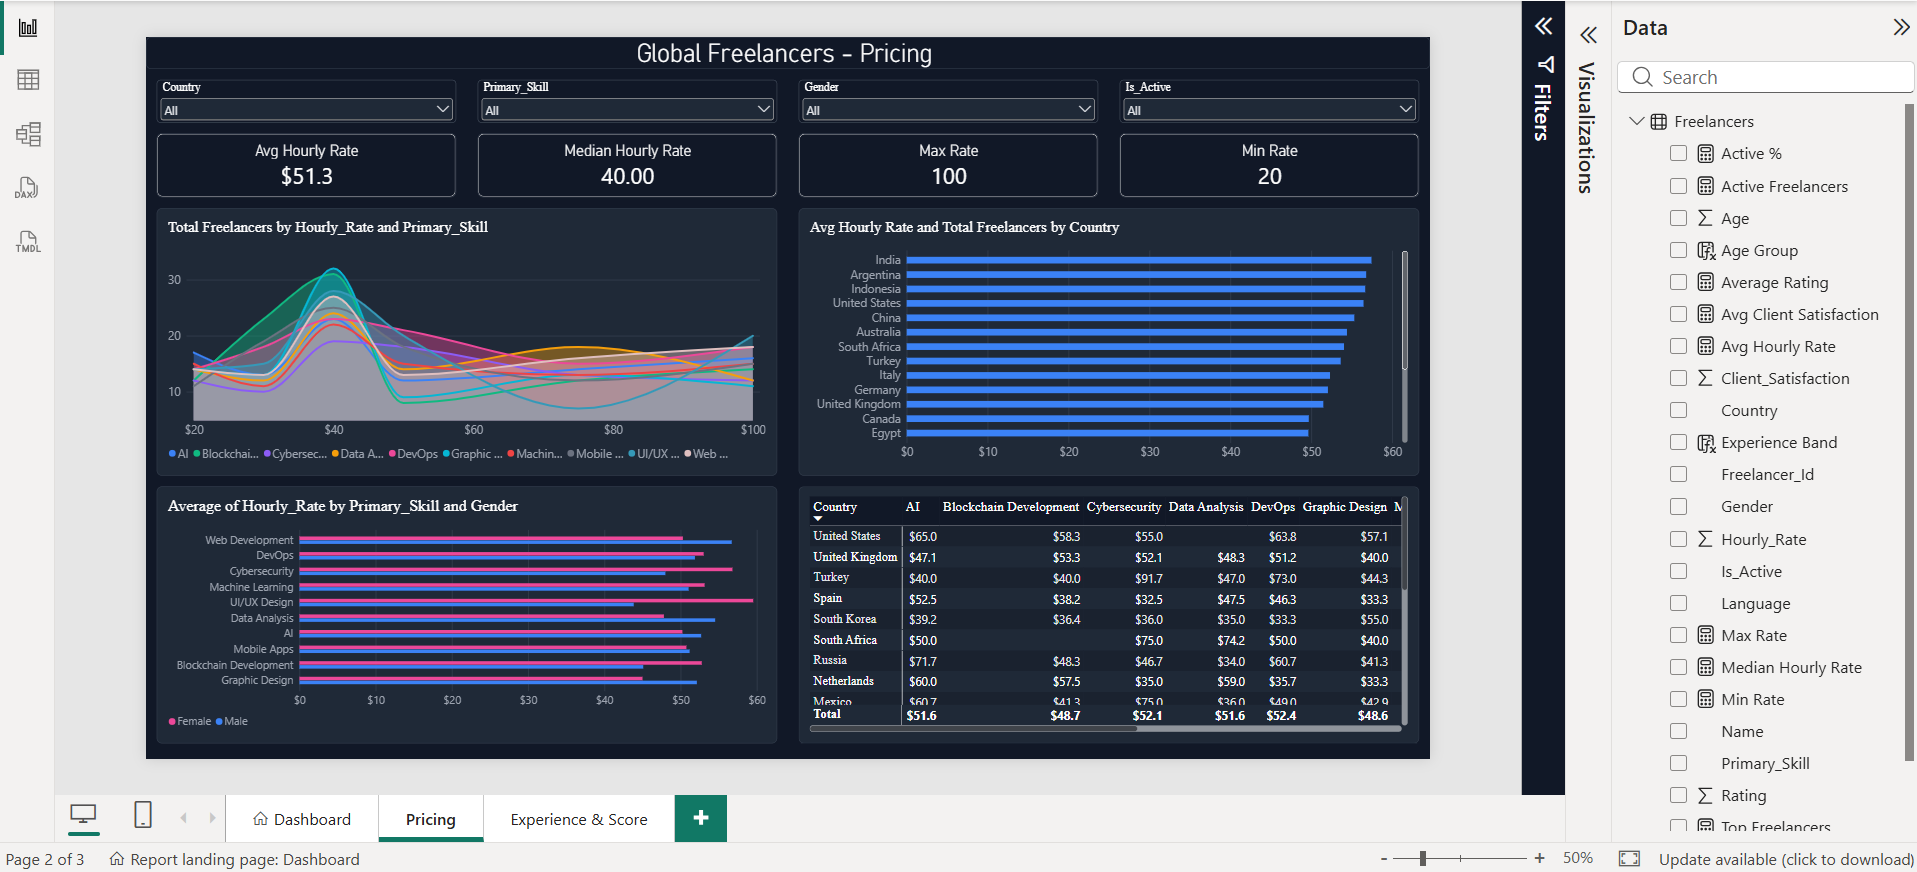

This screenshot's page, from the dashboard's own definition file:
{"tool":"powerbi","page":{"name":"Pricing","canvas":[1920,1080],"ordinal":1},"visuals":[{"type":"cardVisual","fields":{"Data":["Freelancers.Avg Hourly Rate"]},"box":[16,144,448,96],"z":0},{"type":"cardVisual","fields":{"Data":["Freelancers.Median Hourly Rate"]},"box":[496,144,448,96],"z":2000},{"type":"slicer","fields":{"Values":["Freelancers.Country"]},"box":[16,64,448,64],"z":3000},{"type":"slicer","fields":{"Values":["Freelancers.Primary_Skill"]},"box":[496,64,448,64],"z":4000},{"type":"slicer","fields":{"Values":["Freelancers.Gender"]},"box":[976,64,448,64],"z":5000},{"type":"textbox","box":[0,0,1920,48],"z":6000},{"type":"clusteredBarChart","fields":{"Category":["Freelancers.Primary_Skill","Freelancers.Experience Band"],"Series":["Freelancers.Gender"],"Y":["Avg(Freelancers.Hourly_Rate (Usd))"]},"box":[16,672,928,384],"z":7000},{"type":"pivotTable","fields":{"Columns":["Freelancers.Primary_Skill"],"Rows":["Freelancers.Country"],"Values":["Freelancers.Avg Hourly Rate"]},"box":[976,672,928,384],"z":8000},{"type":"areaChart","fields":{"Category":["Freelancers.Hourly_Rate (Usd)"],"Series":["Freelancers.Primary_Skill"],"Y":["Freelancers.Total Freelancers"]},"box":[16,256,928,400],"z":9000},{"type":"clusteredBarChart","fields":{"Category":["Freelancers.Country","Freelancers.Age Group"],"Y":["Freelancers.Avg Hourly Rate"]},"box":[976,256,928,400],"z":10000},{"type":"slicer","fields":{"Values":["Freelancers.Is_Active"]},"box":[1456,64,448,64],"z":11000},{"type":"cardVisual","fields":{"Data":["Freelancers.Max Rate"]},"box":[976,144,448,96],"z":11001},{"type":"cardVisual","fields":{"Data":["Freelancers.Min Rate"]},"box":[1456,144,448,96],"z":11002}]}

Visuals, with their boxes on the page's 1920x1080 design canvas (x1, y1, x2, y2). These are canvas units, not pixel positions in the 1917x872 screenshot, which may show the page scaled, cropped or inside an application window:
cardVisual - Freelancers.Avg Hourly Rate: x1=16, y1=144, x2=464, y2=240
cardVisual - Freelancers.Median Hourly Rate: x1=496, y1=144, x2=944, y2=240
slicer - Freelancers.Country: x1=16, y1=64, x2=464, y2=128
slicer - Freelancers.Primary_Skill: x1=496, y1=64, x2=944, y2=128
slicer - Freelancers.Gender: x1=976, y1=64, x2=1424, y2=128
textbox: x1=0, y1=0, x2=1920, y2=48
clusteredBarChart - Freelancers.Primary_Skill x Freelancers.Experience Band: x1=16, y1=672, x2=944, y2=1056
pivotTable - Freelancers.Primary_Skill x Freelancers.Country: x1=976, y1=672, x2=1904, y2=1056
areaChart - Freelancers.Hourly_Rate (Usd) x Freelancers.Primary_Skill: x1=16, y1=256, x2=944, y2=656
clusteredBarChart - Freelancers.Country x Freelancers.Age Group: x1=976, y1=256, x2=1904, y2=656
slicer - Freelancers.Is_Active: x1=1456, y1=64, x2=1904, y2=128
cardVisual - Freelancers.Max Rate: x1=976, y1=144, x2=1424, y2=240
cardVisual - Freelancers.Min Rate: x1=1456, y1=144, x2=1904, y2=240
